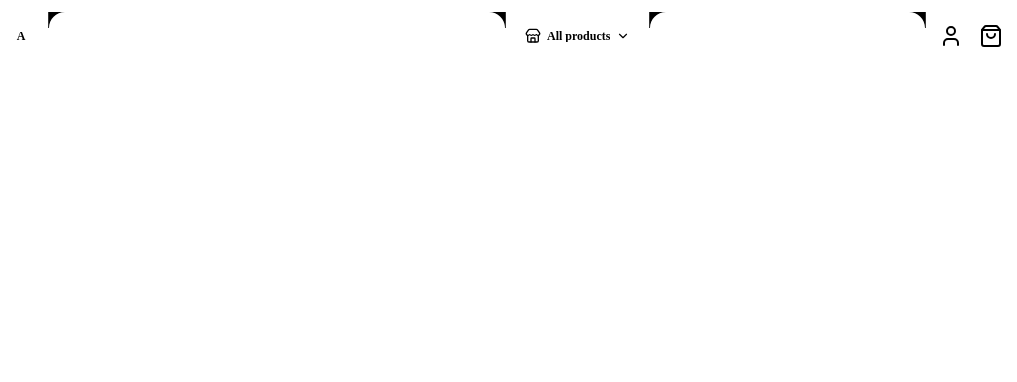
Test case: the header account control › keeps the slab a glyph, and puts the initials in the menu
This screenshot has width=1017, height=382.
expect the 7th icon is shown: met, box [939, 24, 963, 48]
Step 1. Click the button named "Hi Sara Nour" → point(951, 36), box [933, 18, 969, 54]
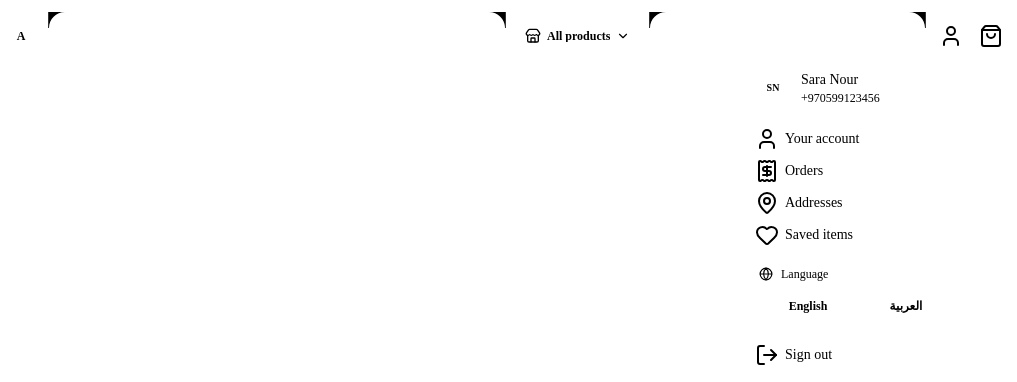
expect the menu item "Orders" is shown: met, box [755, 159, 823, 183]
expect the element showing "SN" is shown: met, box [767, 82, 779, 93]
